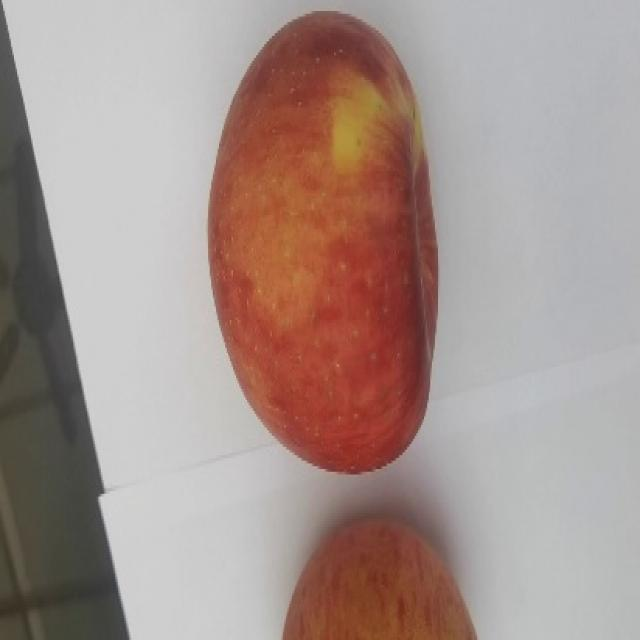Apple: (208, 7, 441, 475), (275, 513, 478, 640)
